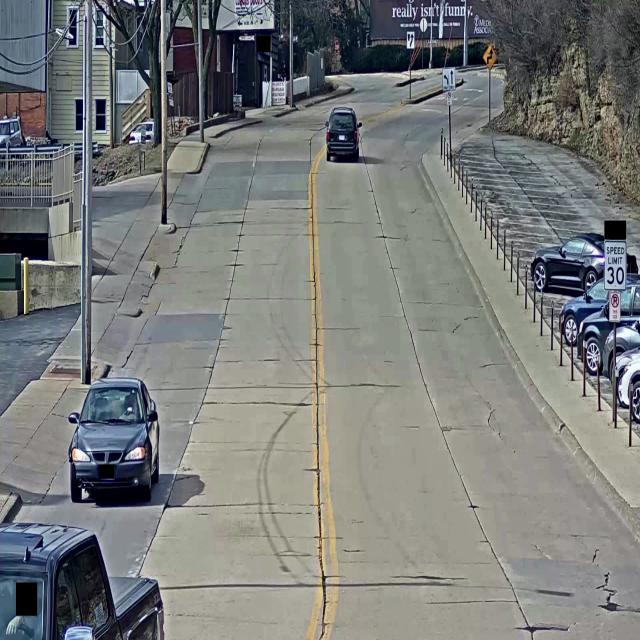car: (0, 523, 165, 640), (68, 378, 160, 503), (530, 232, 638, 293), (577, 280, 640, 376), (559, 273, 640, 347), (602, 316, 640, 385), (325, 107, 362, 162), (611, 346, 640, 409), (621, 356, 640, 424), (0, 118, 27, 160), (130, 121, 154, 144)
